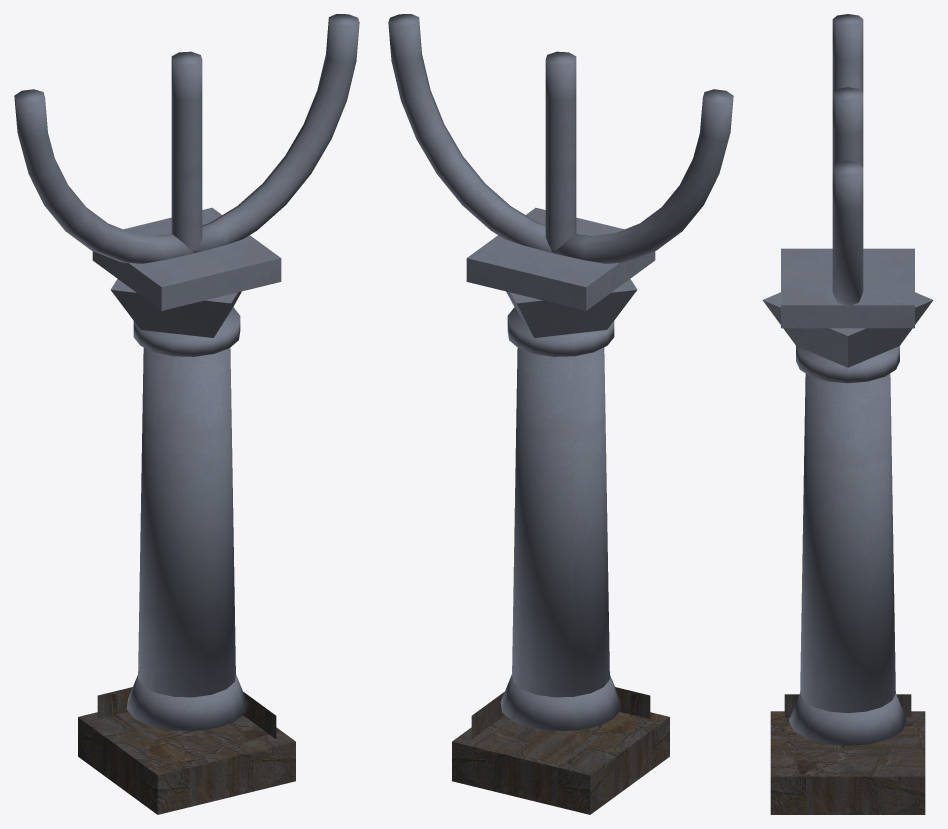
Rendered from gothic_pillar_arch.glb.
3 renders of one model, left to right at view 1: azimuth 30°, elevation 25°; view 2: azimuth 150°, elevation 25°; view 3: azimuth 270°, elevation 25°, orthographic. The views are drawn at different scales.
Visible parts, largest first — view 1: Shaft, Plinth, RibPX, Abacus, RibNX, RibPY, BaseMould, Capital, PlinthStep, ShaftCollar; view 2: Shaft, Plinth, RibPX, Abacus, RibNX, RibPY, PlinthStep, BaseMould, Capital, ShaftCollar; view 3: Shaft, Plinth, Abacus, RibPX, PlinthStep, Capital, BaseMould, RibPY, RibNX, ShaftCollar.
Part boxes in pixels (x1,y1,x2,y2): Shaft: [138, 347, 235, 697]; Plinth: [78, 712, 295, 814]; RibPX: [195, 14, 359, 253]; Abacus: [92, 207, 281, 310]; RibNX: [14, 89, 194, 263]; RibPY: [171, 51, 202, 252]; BaseMould: [126, 674, 247, 731]; Capital: [110, 279, 241, 337]; PlinthStep: [97, 687, 276, 756]; ShaftCollar: [133, 307, 240, 356]; Shaft: [512, 347, 609, 697]; Plinth: [452, 712, 669, 814]; RibPX: [388, 14, 552, 253]; Abacus: [466, 207, 655, 310]; RibNX: [553, 89, 733, 263]; RibPY: [545, 51, 576, 252]; PlinthStep: [471, 687, 650, 763]; BaseMould: [500, 674, 621, 731]; Capital: [506, 279, 637, 337]; ShaftCollar: [507, 307, 614, 356]; Shaft: [800, 373, 895, 712]; Plinth: [770, 711, 925, 814]; Abacus: [781, 248, 914, 328]; RibPX: [832, 160, 863, 306]; PlinthStep: [784, 694, 911, 770]; Capital: [762, 292, 933, 367]; BaseMould: [789, 693, 906, 745]; RibPY: [832, 87, 863, 167]; RibNX: [832, 14, 863, 92]; ShaftCollar: [796, 346, 899, 383].
Bounding box in the file's own units: 2.72 × 5.41 × 1.22.
2 materials, 2 textured.
